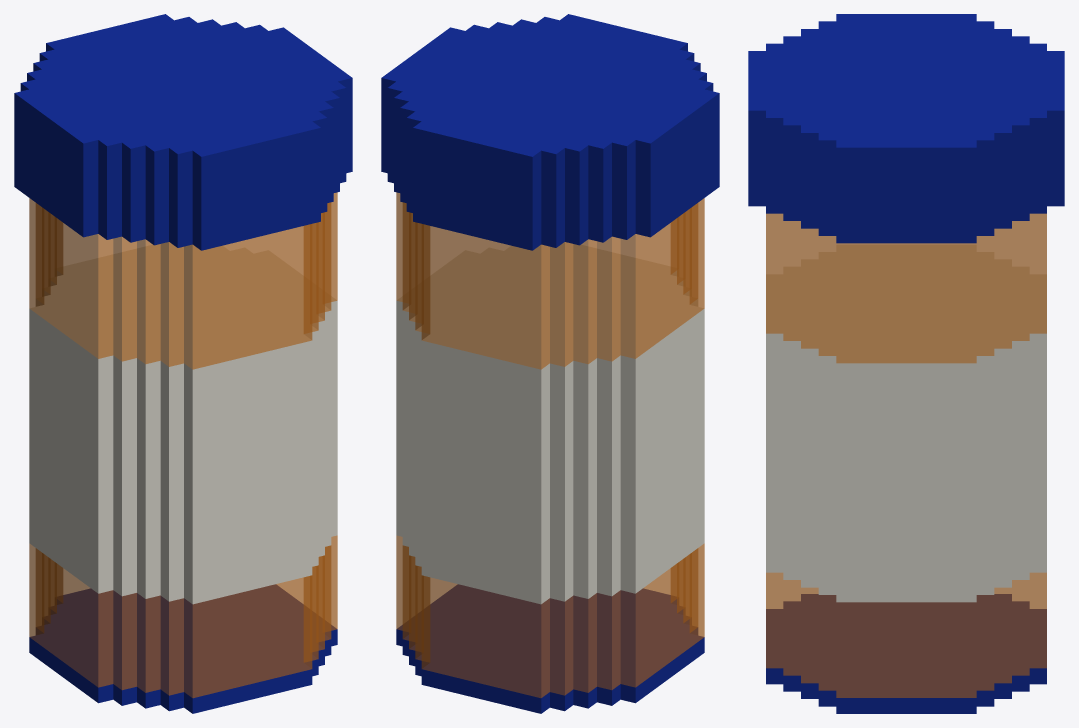
File: tramadol.glb
3 renders of one model, left to right at view 1: azimuth 30°, elevation 25°; view 2: azimuth 150°, elevation 25°; view 3: azimuth 270°, elevation 25°, orthographic.
Visible parts, largest first — view 1: tramadol:vessel; view 2: tramadol:vessel; view 3: tramadol:vessel.
Boxes of the visible parts, <box> form: tramadol:vessel: <box>14,14,352,713</box>; tramadol:vessel: <box>381,14,719,713</box>; tramadol:vessel: <box>748,14,1064,713</box>.
Size of the model in its own units: 0.036 by 0.072 by 0.036.
